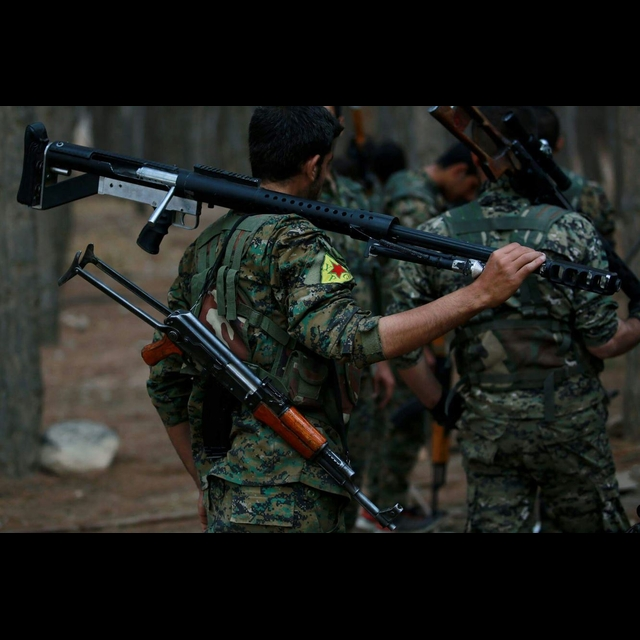AK47: (139, 310, 398, 530)
YPG: (315, 248, 355, 287)
